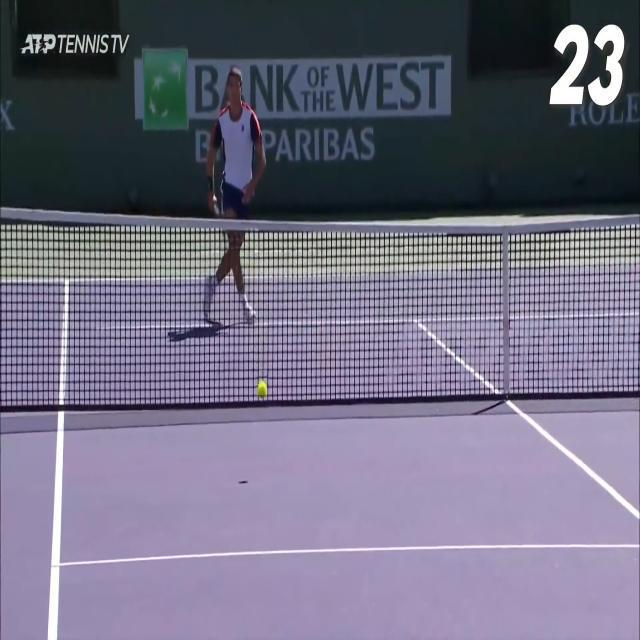net: (0, 203, 640, 400)
